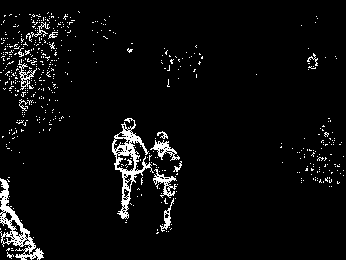person: (111, 117, 149, 220), (146, 126, 181, 233)
